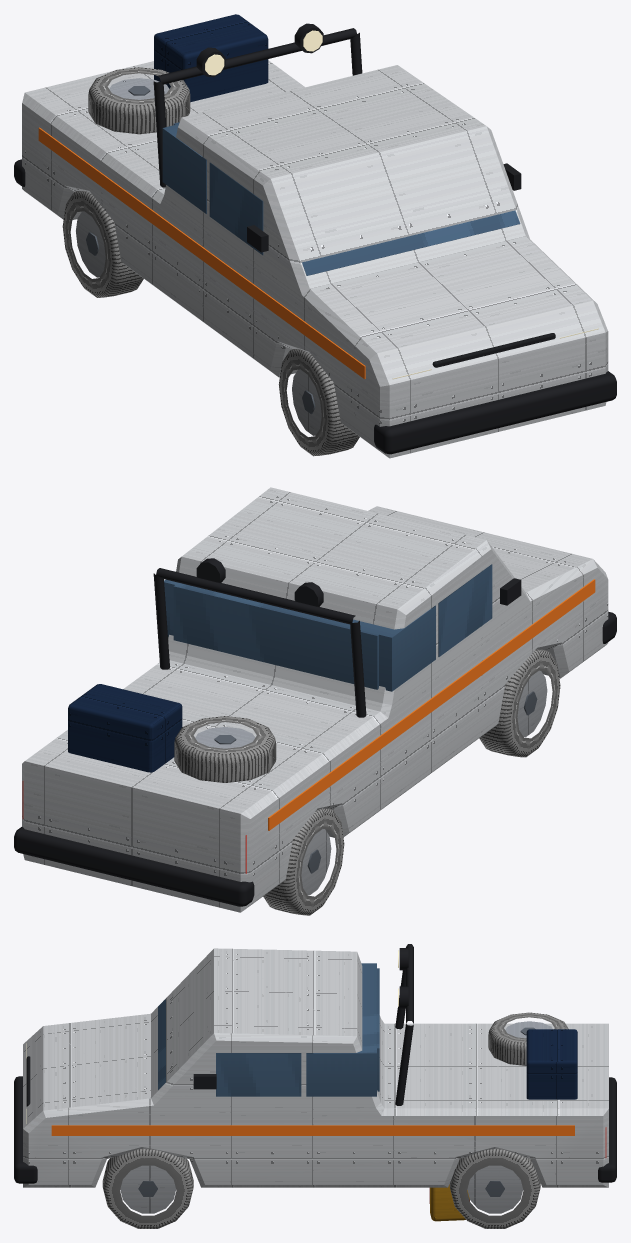
Rendered from picape_de_apoio.glb.
3 renders of one model, top to bottom at view 1: azimuth 30°, elevation 25°; view 2: azimuth 150°, elevation 25°; view 3: azimuth 270°, elevation 25°, orthographic. The views are drawn at different scales.
Visible parts, largest first — view 1: picape_de_apoio_metal, picape_de_apoio; view 2: picape_de_apoio_metal, picape_de_apoio; view 3: picape_de_apoio_metal, picape_de_apoio.
Part boxes in pixels (bbox=[...]): picape_de_apoio_metal: bbox=[22, 14, 608, 458]; picape_de_apoio: bbox=[14, 23, 616, 456]; picape_de_apoio_metal: bbox=[22, 487, 608, 912]; picape_de_apoio: bbox=[14, 558, 616, 915]; picape_de_apoio_metal: bbox=[23, 948, 608, 1221]; picape_de_apoio: bbox=[14, 944, 616, 1228].
Bounding box in the file's own units: 2.12 × 2.12 × 5.3.
7 materials, 4 textured.
